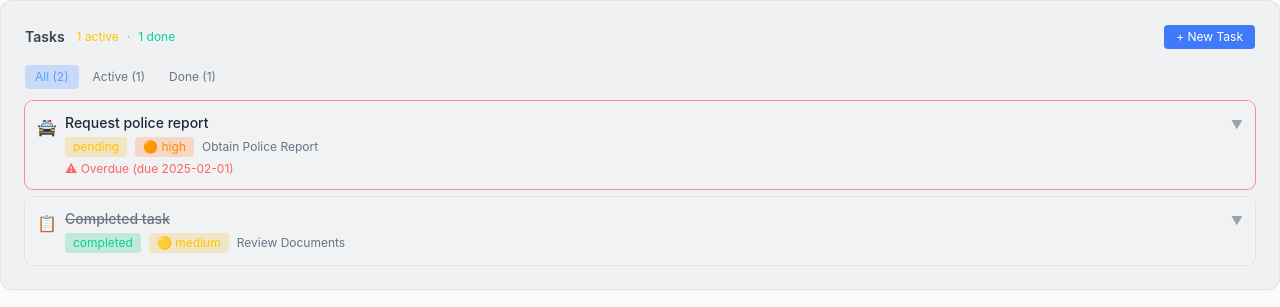
Test case: TaskPanel › filters tasks by active and completed
Click the button "Active (1)": (119, 77) [82,65,155,89]
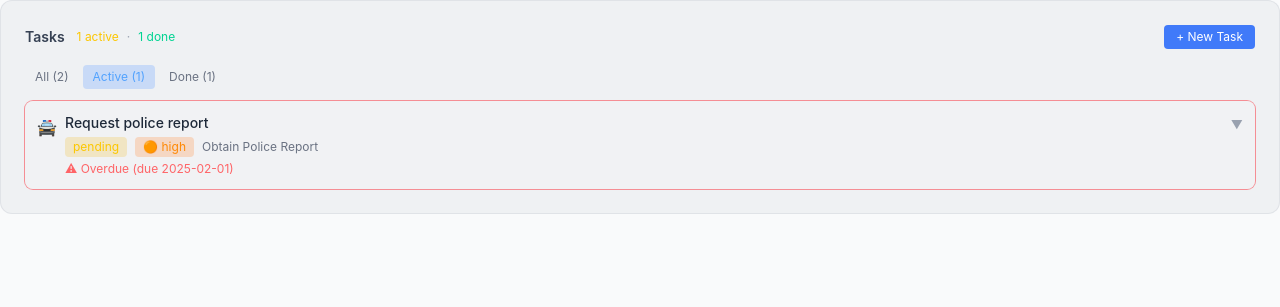
Expected: the text "Request police report" is shown, [65,114,208,131]
Result: the button "Completed task" is gone
Click the button "Done (1)": (192, 77) [159,65,226,89]
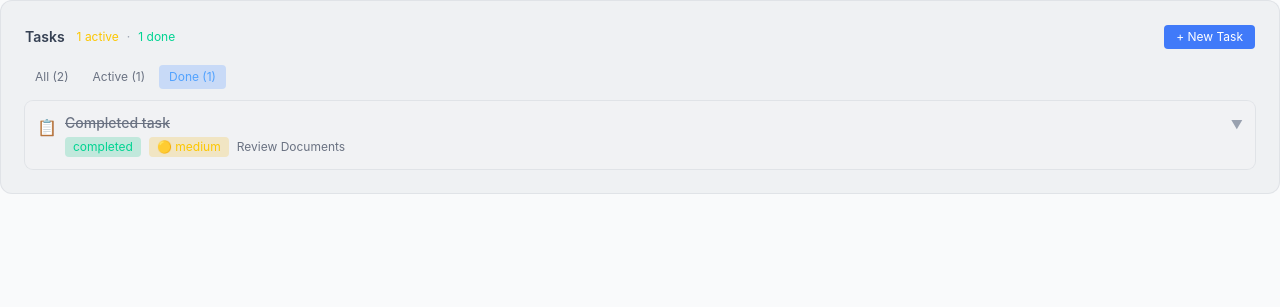
Result: the text "Completed task" is shown at [65,114,170,131]
Result: the button "Request police report" is gone
